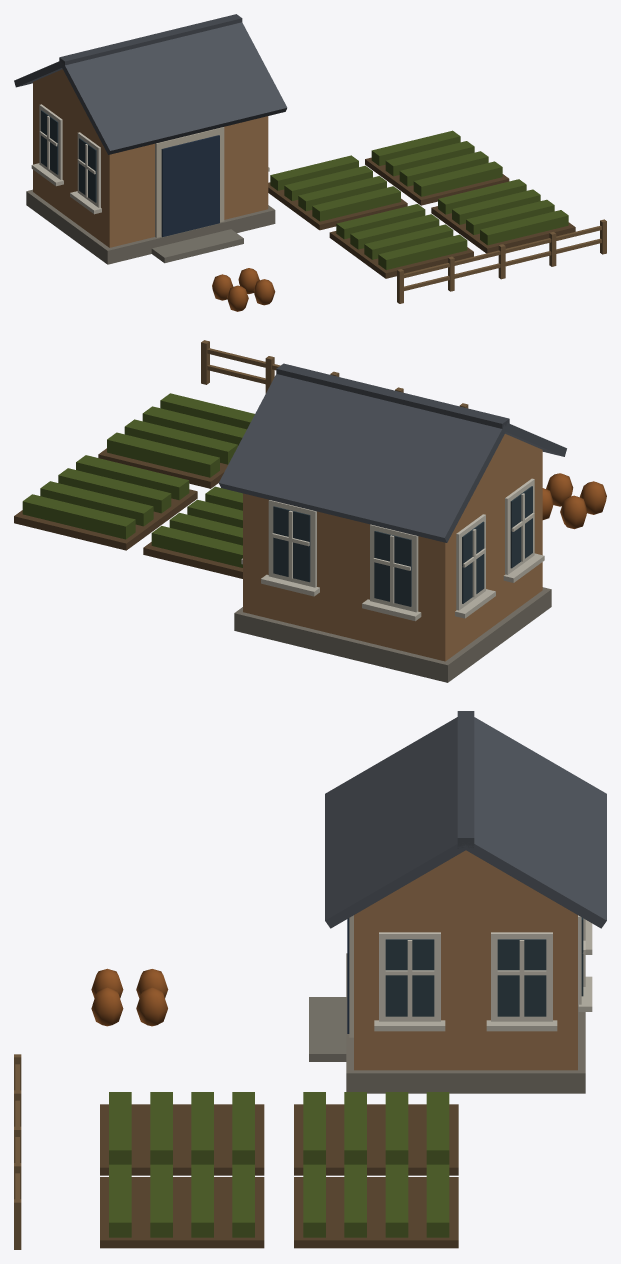
Rendered from procedural_cocoa_farm@5.glb.
3 renders of one model, top to bottom at view 1: azimuth 30°, elevation 25°; view 2: azimuth 150°, elevation 25°; view 3: azimuth 270°, elevation 25°, orthographic. The views are drawn at different scales.
Parts seen in each view (by area): view 1: part_0; view 2: part_0; view 3: part_0.
Boxes of the visible parts, left/top/right/bottom form: part_0: left=14, top=14, right=606, bottom=311; part_0: left=14, top=340, right=606, bottom=682; part_0: left=14, top=711, right=606, bottom=1249.
Size of the model in its own units: 8.86 by 3.83 by 7.94.
